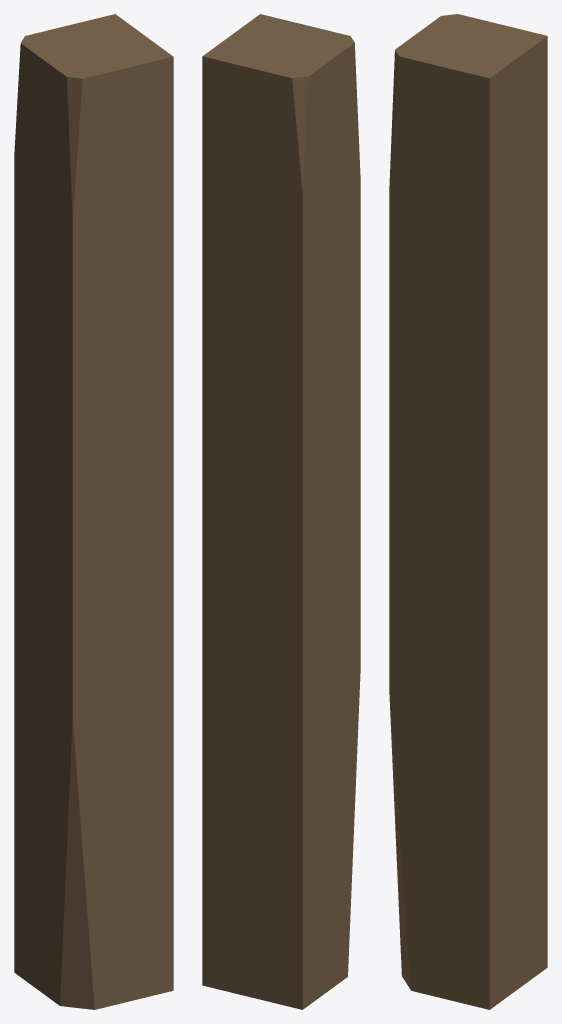
File: SM_Props_City_Beach_Pier_Post_01.fbx
3 views of the same model, side by side, from view 1: azimuth 30°, elevation 25°; view 2: azimuth 150°, elevation 25°; view 3: azimuth 330°, elevation 25° (orthographic).
Parts seen in each view (by area): view 1: SM_Props_City_Beach_Pier_Post_01; view 2: SM_Props_City_Beach_Pier_Post_01; view 3: SM_Props_City_Beach_Pier_Post_01.
Boxes of the visible parts, left/top/right/bottom form: SM_Props_City_Beach_Pier_Post_01: left=14, top=14, right=173, bottom=1009; SM_Props_City_Beach_Pier_Post_01: left=202, top=14, right=360, bottom=1009; SM_Props_City_Beach_Pier_Post_01: left=389, top=14, right=547, bottom=1009.
Bounding box in the file's own units: 19.2 × 170 × 19.2.
